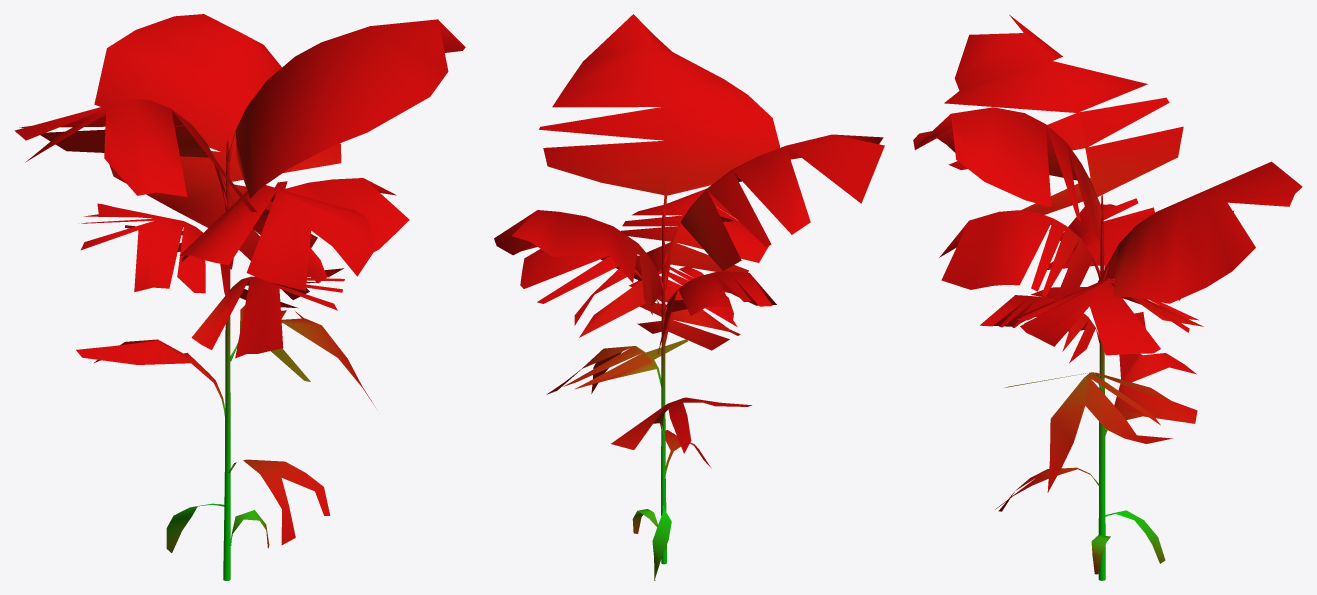
Rendered from Cane Palm_LOD0_Var1_siBmK.fbx.
3 views of the same model, side by side, from view 1: azimuth 30°, elevation 25°; view 2: azimuth 150°, elevation 25°; view 3: azimuth 270°, elevation 25° (orthographic). The views are drawn at different scales.
Visible parts, largest first — view 1: _bc19_Var1_LOD0; view 2: _bc19_Var1_LOD0; view 3: _bc19_Var1_LOD0.
Part boxes in pixels (<box>): _bc19_Var1_LOD0: <box>14,14,465,580</box>; _bc19_Var1_LOD0: <box>494,14,884,580</box>; _bc19_Var1_LOD0: <box>913,14,1302,580</box>.
Bounding box in the file's own units: 30.65 × 43.7 × 29.73.
